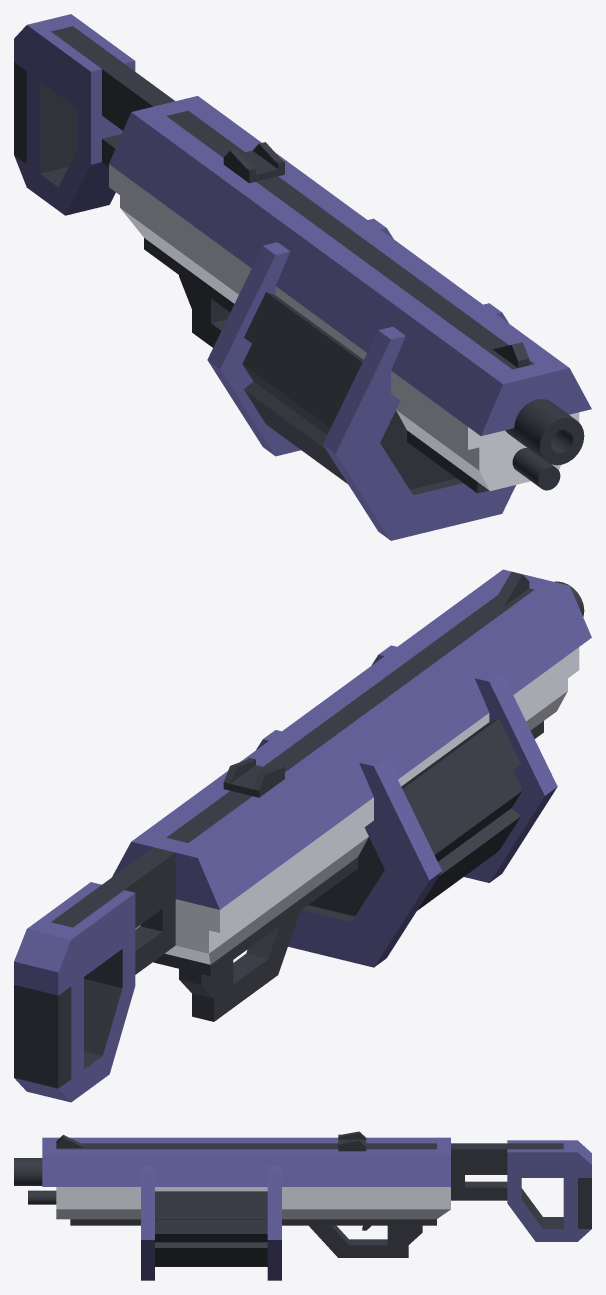
File: machinegun2.fbx
The picture shows the model from 3 angles, top to bottom: view 1: azimuth 30°, elevation 25°; view 2: azimuth 150°, elevation 25°; view 3: azimuth 270°, elevation 25°; orthographic projection. The views are drawn at different scales.
Parts seen in each view (by area): view 1: mergedBlocks; view 2: mergedBlocks; view 3: mergedBlocks.
Part boxes in pixels (x1=…): mergedBlocks: x1=14, y1=14, x2=591, y2=540; mergedBlocks: x1=14, y1=569, x2=591, y2=1102; mergedBlocks: x1=14, y1=1131, x2=591, y2=1280.
Bounding box in the file's own units: 10 × 10.13 × 41.
